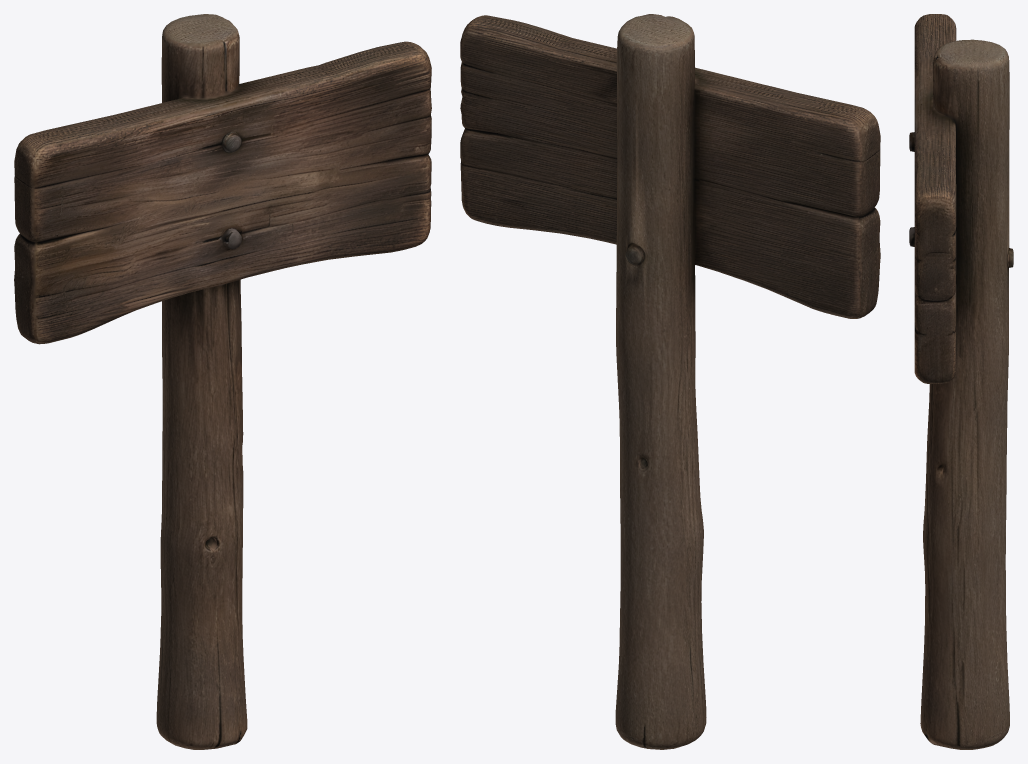
Rendered from away_sign.glb.
3 views of the same model, side by side, from view 1: azimuth 30°, elevation 25°; view 2: azimuth 150°, elevation 25°; view 3: azimuth 270°, elevation 25° (orthographic). The views are drawn at different scales.
Visible parts, largest first — view 1: node_0; view 2: node_0; view 3: node_0.
Boxes of the visible parts, x1,y1,x2,y2 form: node_0: [14, 14, 431, 749]; node_0: [460, 14, 880, 749]; node_0: [909, 14, 1013, 749].
Size of the model in its own units: 0.6964 by 1.17 by 0.1612.
1 material, 1 textured.
